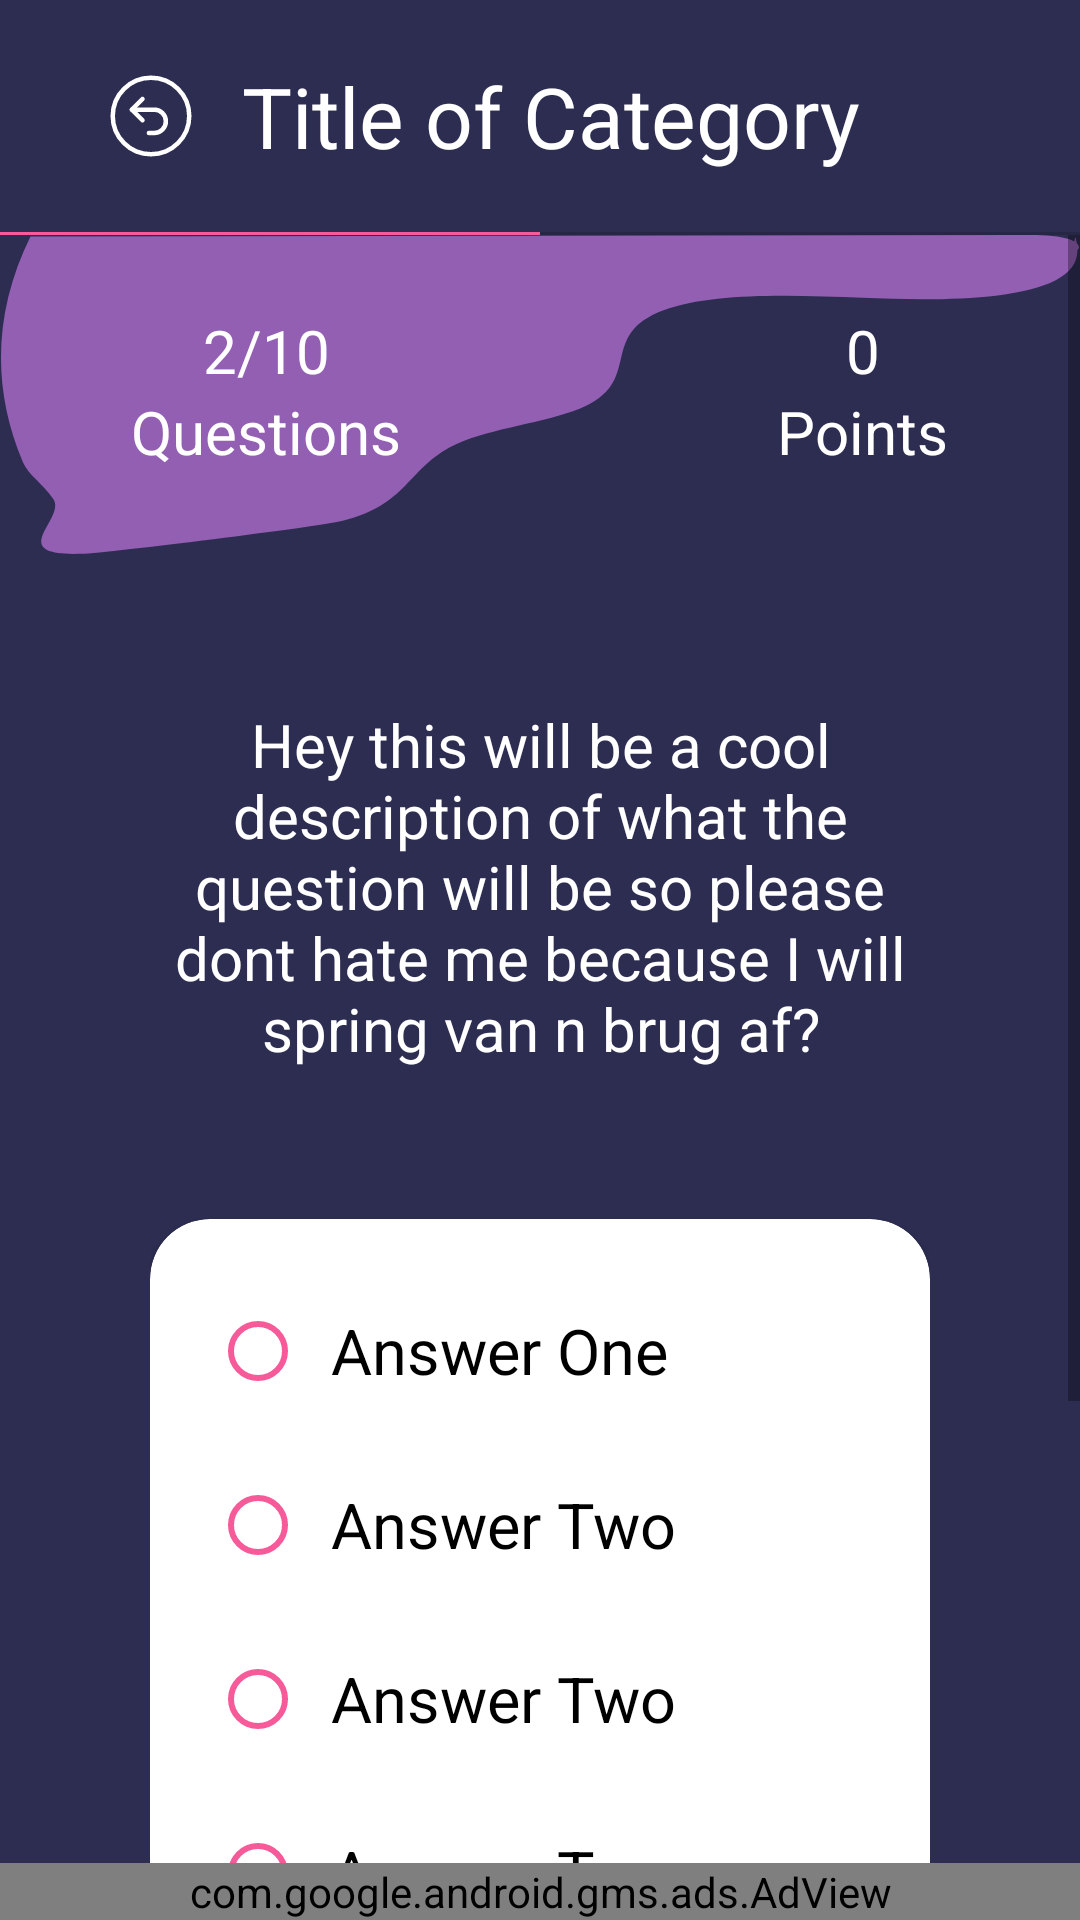

Point at icon controls on the screen. Image size 1080 x 1920, points as (x=x, y=y).
back: (x=151, y=116)
